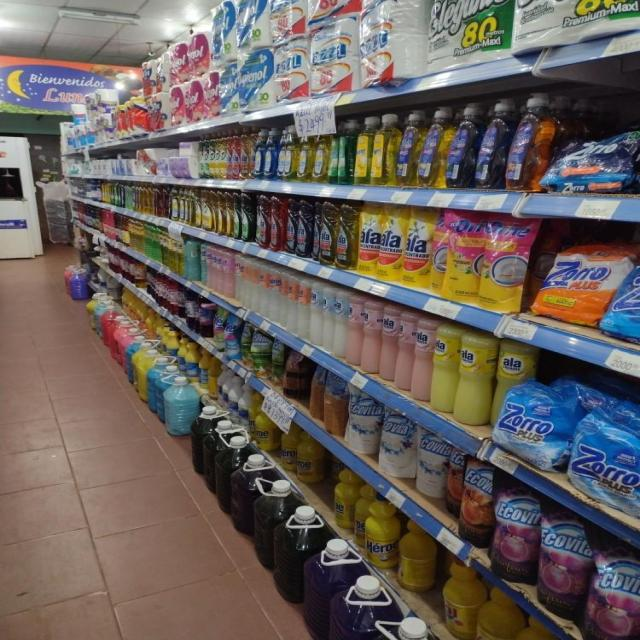ala_conc_amarillo: (336, 201, 357, 271), (317, 199, 336, 266)
ala_conc_azul: (296, 198, 314, 259)
ala_crem_amarillo: (456, 330, 493, 426), (432, 322, 456, 416)
ala_crem_blanco: (309, 280, 322, 347), (334, 288, 346, 360), (322, 284, 333, 355)
ala_crem_rosado: (412, 314, 432, 403), (396, 306, 412, 394), (361, 298, 379, 375), (380, 302, 396, 384), (346, 292, 361, 368)
ala_sachet_amarillo: (403, 204, 430, 289), (378, 203, 402, 282), (357, 200, 379, 276)
magistral_con_azul: (264, 128, 277, 180)
